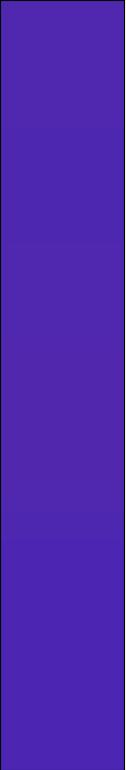safe: (8, 15, 121, 758)
